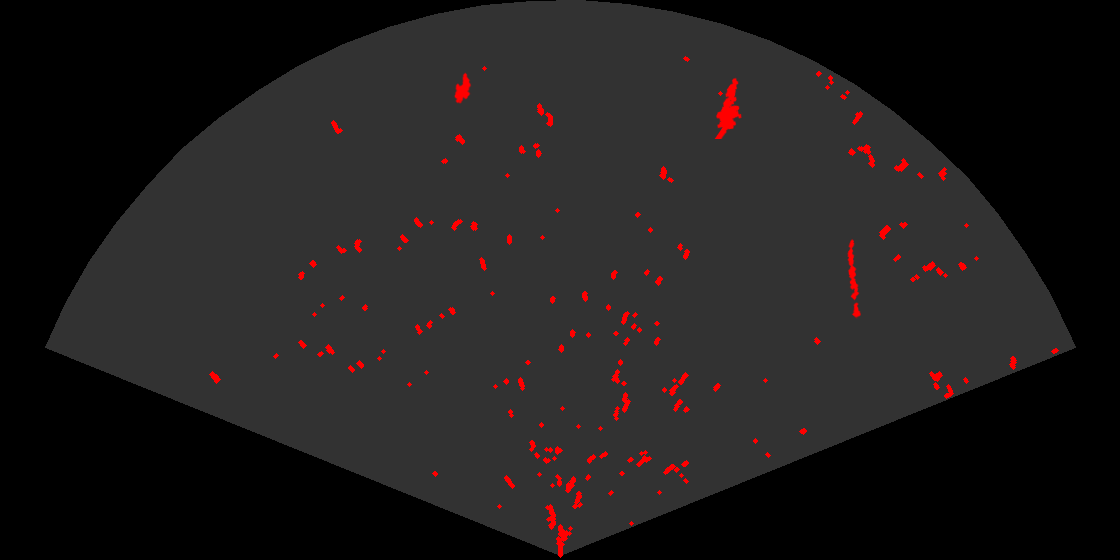AUV: (453, 71, 472, 105)
chain: (846, 237, 862, 319)
frogman: (713, 76, 743, 139)
